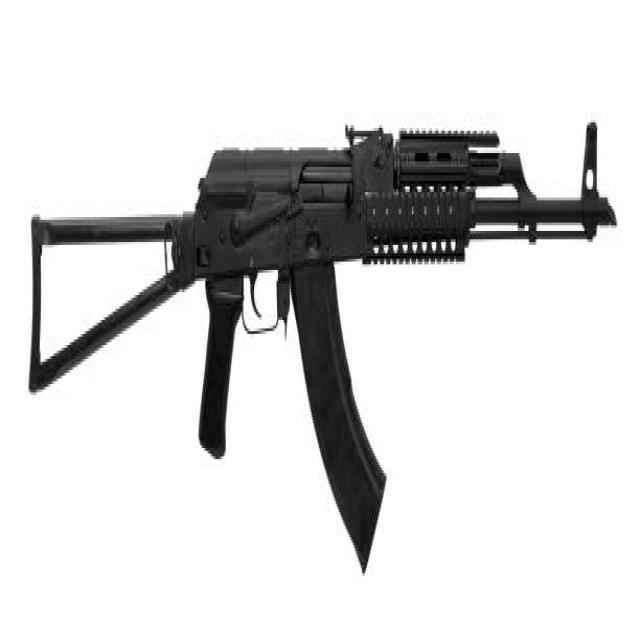rifle: (27, 92, 621, 592)
